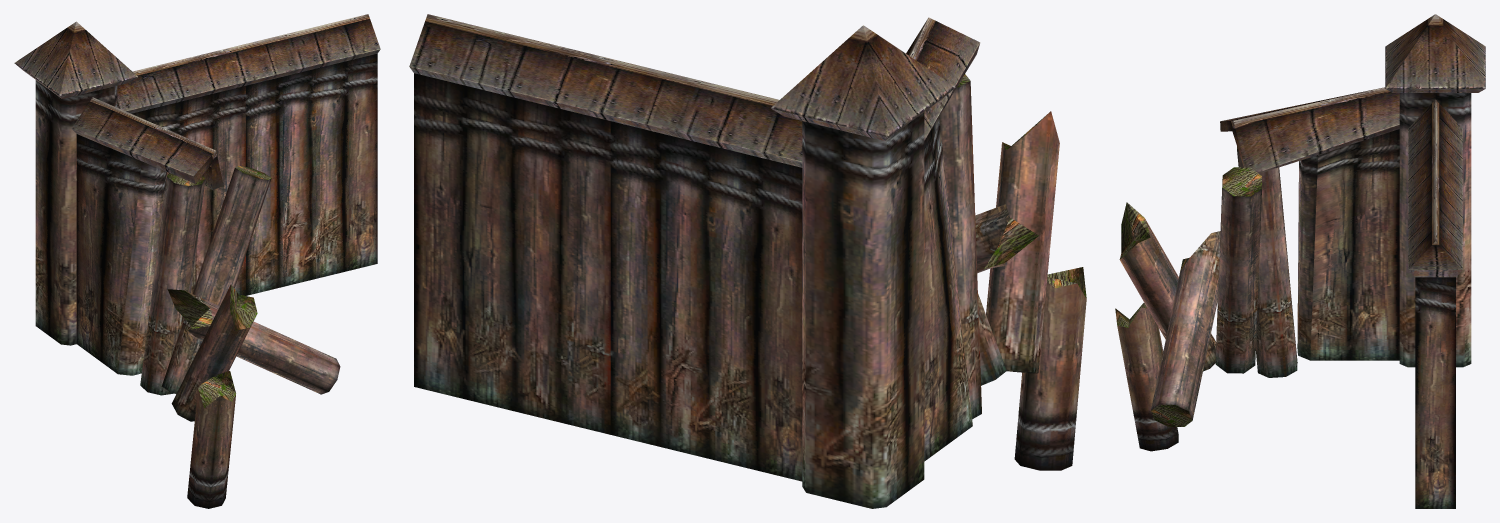
File: S_RFCrn4.glb
The picture shows the model from 3 angles, left to right: view 1: azimuth 30°, elevation 25°; view 2: azimuth 150°, elevation 25°; view 3: azimuth 270°, elevation 25°; orthographic projection. The views are drawn at different scales.
Parts seen in each view (by area): view 1: S_RFCrn4-col; view 2: S_RFCrn4-col; view 3: S_RFCrn4-col.
Part boxes in pixels (left/top/right/bottom): S_RFCrn4-col: left=14, top=14, right=380, bottom=508; S_RFCrn4-col: left=409, top=14, right=1086, bottom=508; S_RFCrn4-col: left=1115, top=14, right=1485, bottom=508.
Bounding box in the file's own units: 5.28 × 5.92 × 4.64.
4 materials, 4 textured.
